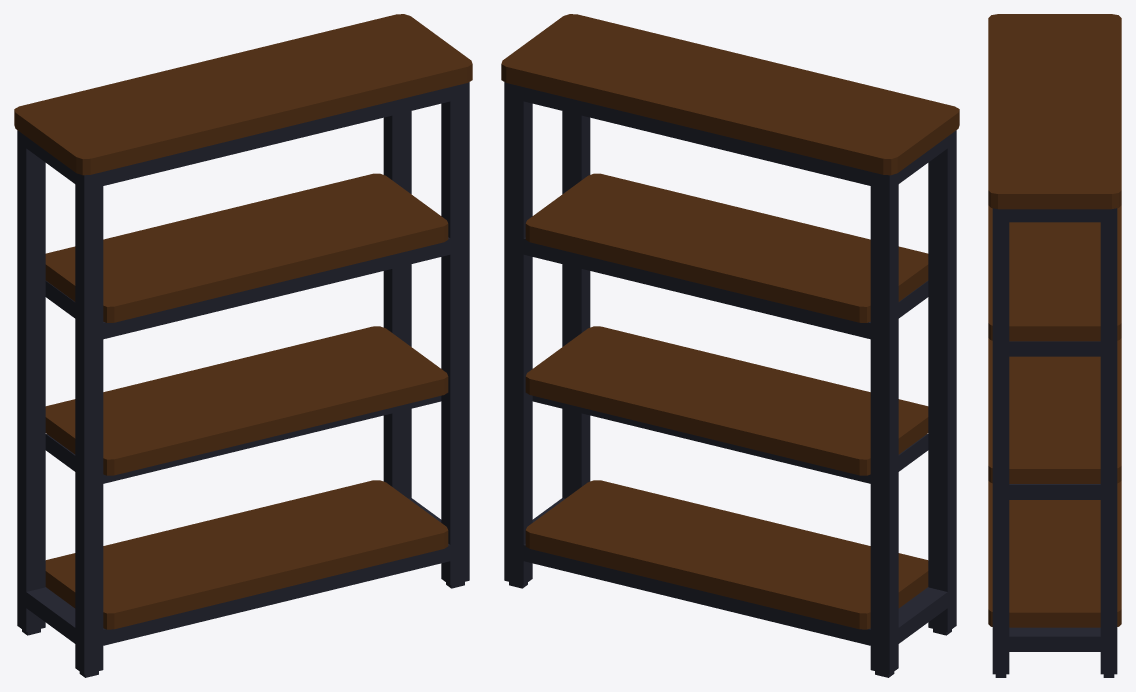
The model's file is SmallShelf.fbx.
3 views of the same model, side by side, from view 1: azimuth 30°, elevation 25°; view 2: azimuth 150°, elevation 25°; view 3: azimuth 270°, elevation 25° (orthographic). The views are drawn at different scales.
Parts seen in each view (by area): view 1: Small Shelf; view 2: Small Shelf; view 3: Small Shelf.
Boxes of the visible parts, x1,y1,x2,y2 form: Small Shelf: (14, 14, 472, 677); Small Shelf: (501, 14, 959, 677); Small Shelf: (988, 14, 1121, 677).
Bounding box in the file's own units: 82.21 × 104 × 25.76.
